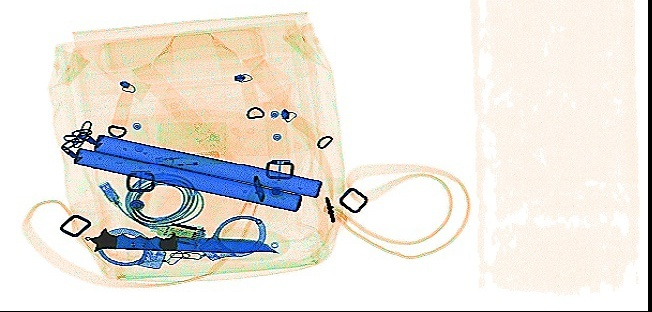handcuffs: (94, 214, 268, 268)
knife: (82, 226, 278, 257)
lighter: (146, 146, 224, 175)
